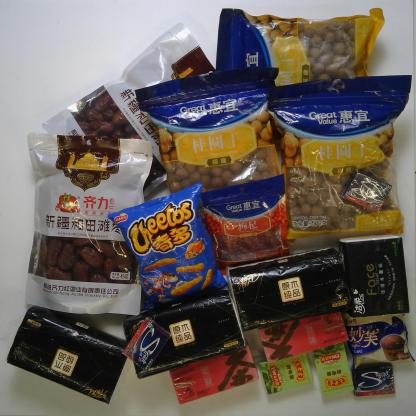Candy: (259, 352, 315, 395), (313, 342, 355, 397)
Dessert: (342, 310, 416, 370)
Dried Food: (39, 20, 227, 213), (266, 74, 413, 247), (134, 65, 284, 231), (25, 131, 154, 317), (216, 6, 385, 112)
Dried Fruit: (200, 172, 292, 276)
Gum: (122, 314, 172, 372), (341, 167, 392, 214), (350, 362, 396, 397)
Instant Drink: (169, 344, 259, 406), (259, 310, 350, 364)
Puffed Food: (107, 181, 228, 312)
Tissue: (6, 304, 129, 405), (122, 287, 247, 380), (226, 246, 353, 334), (338, 233, 410, 318)
